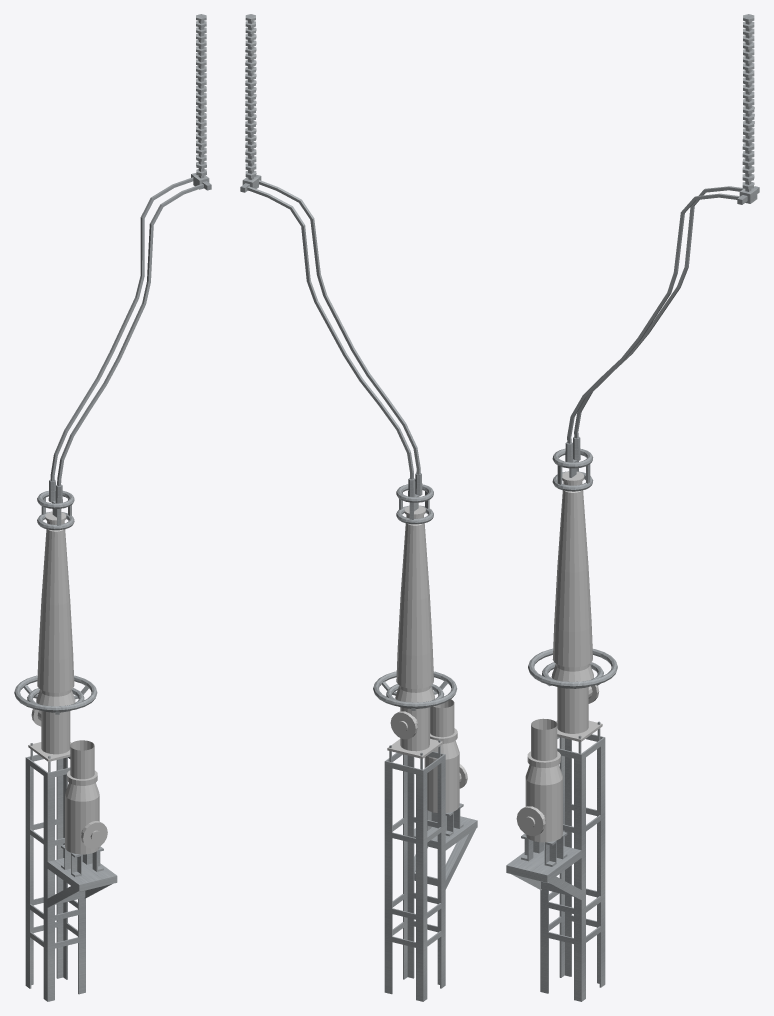
File: tower_sub002_01.FBX
3 views of the same model, side by side, from view 1: azimuth 30°, elevation 25°; view 2: azimuth 150°, elevation 25°; view 3: azimuth 330°, elevation 25° (orthographic). The views are drawn at different scales.
Parts seen in each view (by area): view 1: tower_sub002_01; view 2: tower_sub002_01; view 3: tower_sub002_01.
Part boxes in pixels (x1,y1,x2,y2): tower_sub002_01: [14, 14, 211, 1001]; tower_sub002_01: [240, 14, 477, 1001]; tower_sub002_01: [506, 14, 759, 1001].
Bounding box in the file's own units: 382 × 1738 × 215.
